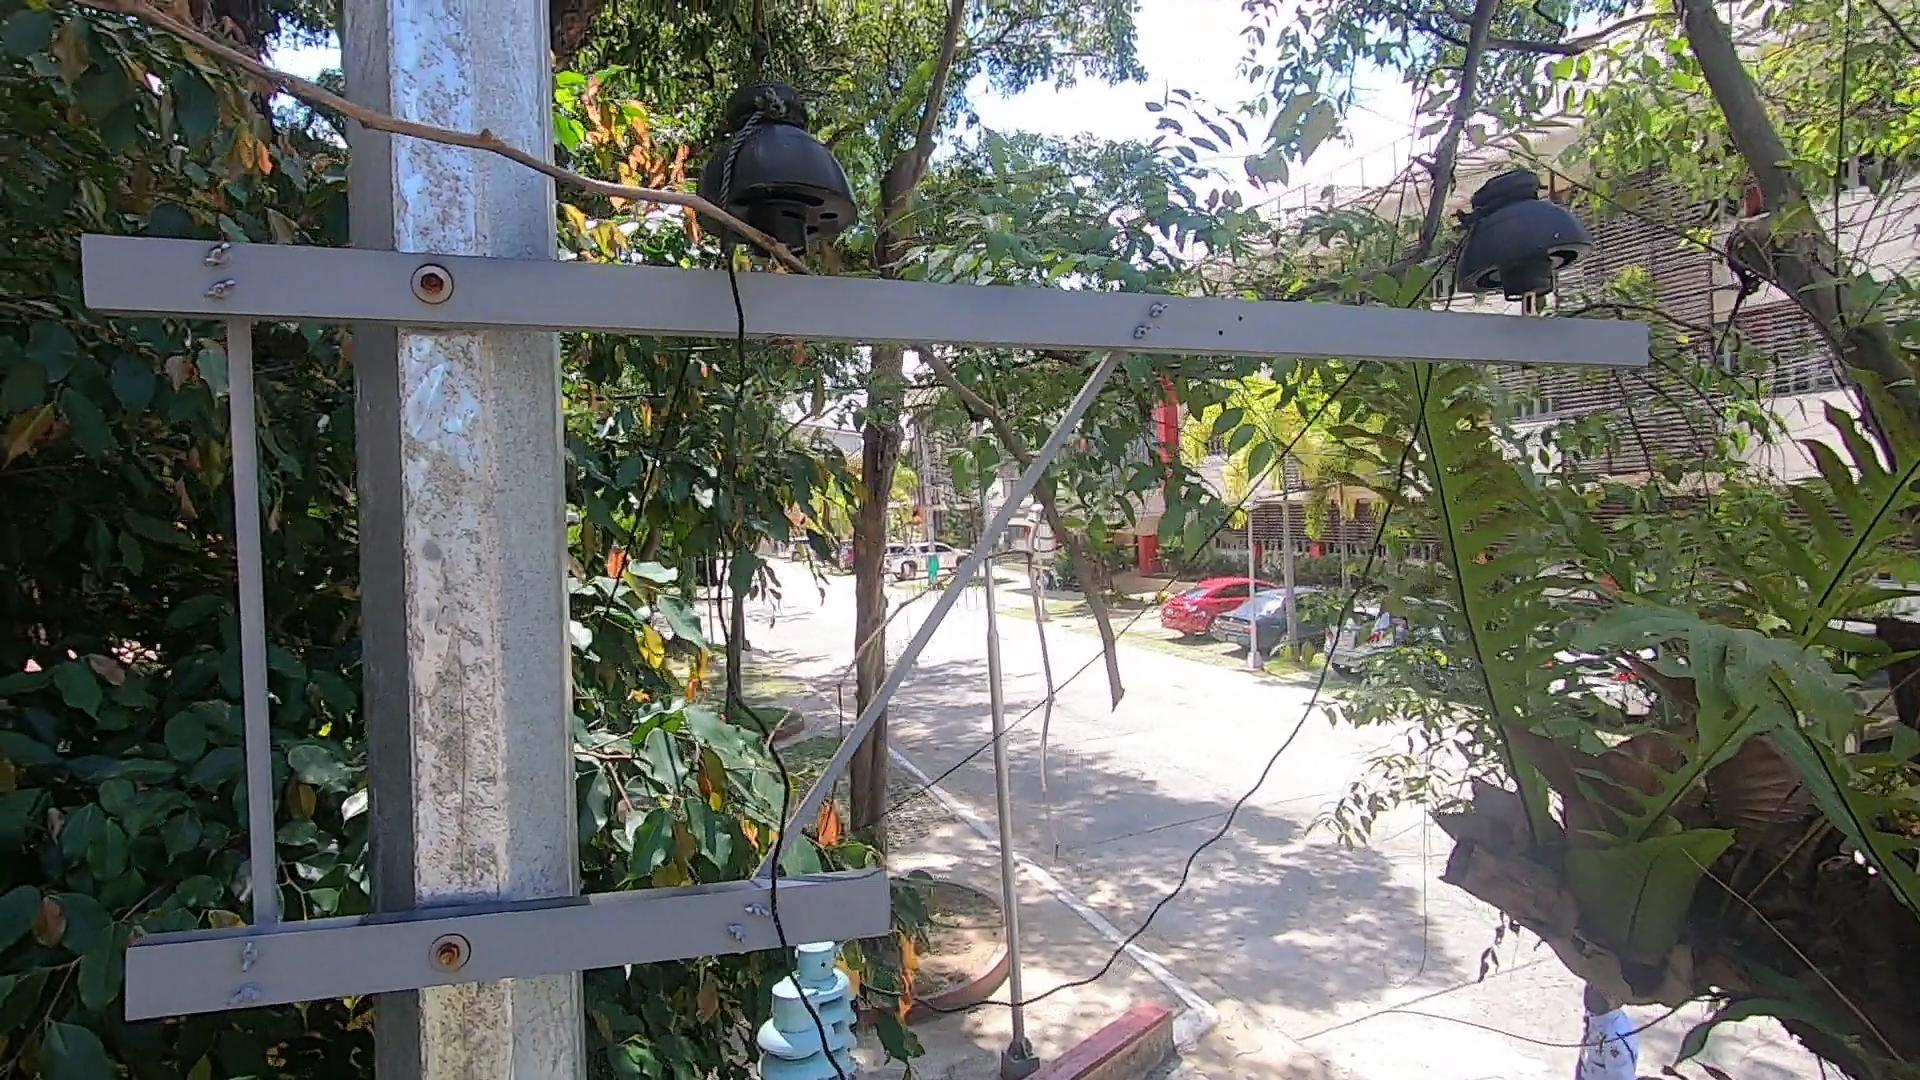branch with leaves: (785, 824, 880, 870)
tree branch: (103, 1, 1149, 695)
